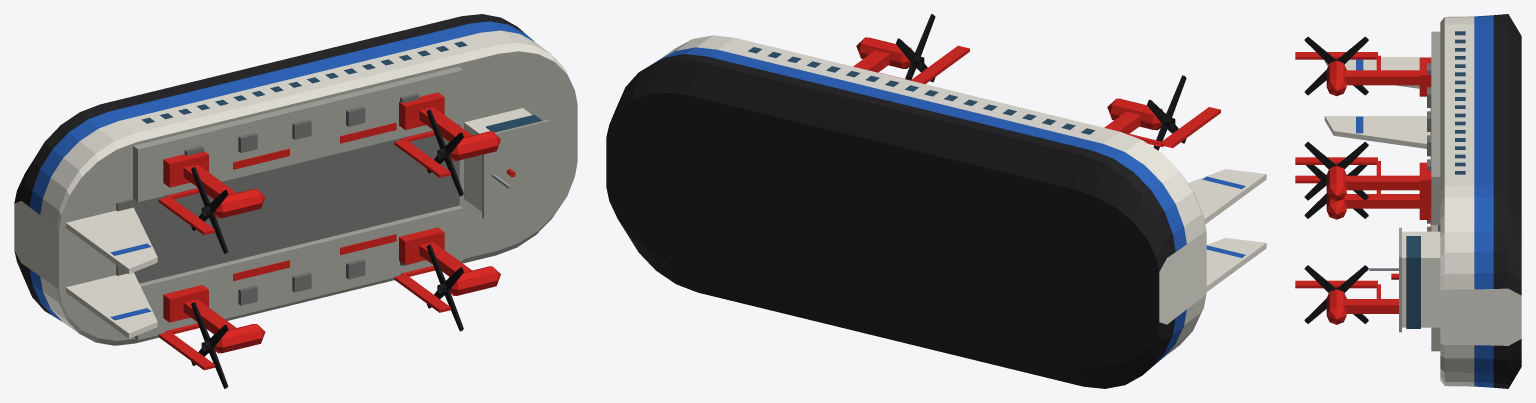
3 views of the same model, side by side, from view 1: azimuth 30°, elevation 25°; view 2: azimuth 150°, elevation 25°; view 3: azimuth 270°, elevation 25° (orthographic). The views are drawn at different scales.
Visible parts, largest first — view 1: default_hull, default_car_deck, default_cabin_roof1, default_cabin_roof-1, default_cockpit_roof, default_fin1, default_fin-1, default_cockpit, default_pylon-5.0-1_foot, default_pylon3.4-1_foot, default_windows1, default_pylon3.41_foot (+13 smaller); view 2: default_hull, default_fin1, default_fin-1, default_windows1, default_pylon3.41_nacelle, default_pylon-5.01_nacelle, default_pylon-5.01_rudder, default_pylon3.41_rudder; view 3: default_hull, default_fin-1, default_cockpit, default_cabin_roof1, default_cockpit_glass, default_pylon-5.01, default_pylon3.41, default_pylon-5.0-1, default_fin1, default_windows1, default_pylon3.4-1, default_pylon-5.01_nacelle (+20 smaller).
Boxes of the visible parts, x1,y1,x2,y2 form: default_hull: [14, 14, 577, 345]; default_car_deck: [116, 124, 459, 283]; default_cabin_roof1: [133, 66, 463, 202]; default_cabin_roof-1: [134, 205, 463, 339]; default_cockpit_roof: [482, 119, 549, 218]; default_fin1: [66, 207, 157, 273]; default_fin-1: [66, 272, 157, 338]; default_cockpit: [464, 108, 531, 211]; default_pylon-5.0-1_foot: [163, 285, 208, 322]; default_pylon3.4-1_foot: [399, 227, 444, 264]; default_windows1: [141, 41, 467, 123]; default_pylon3.41_foot: [399, 92, 444, 129]; default_hull: [606, 35, 1206, 388]; default_fin1: [1188, 169, 1266, 223]; default_fin-1: [1206, 238, 1266, 291]; default_windows1: [748, 47, 1095, 134]; default_pylon3.41_nacelle: [856, 37, 911, 68]; default_pylon-5.01_nacelle: [1107, 98, 1162, 130]; default_pylon-5.01_rudder: [1160, 107, 1220, 148]; default_pylon3.41_rudder: [910, 45, 969, 84]; default_hull: [1440, 14, 1521, 388]; default_fin-1: [1324, 116, 1430, 148]; default_cockpit: [1402, 231, 1440, 327]; default_cabin_roof1: [1431, 31, 1440, 224]; default_cockpit_glass: [1406, 236, 1420, 328]; default_pylon-5.01: [1344, 70, 1419, 85]; default_pylon3.41: [1344, 175, 1419, 190]; default_pylon-5.0-1: [1344, 194, 1419, 208]; default_fin1: [1324, 57, 1431, 88]; default_windows1: [1455, 31, 1465, 174]; default_pylon3.4-1: [1344, 299, 1398, 313]; default_pylon-5.01_nacelle: [1326, 60, 1346, 96].
Size of the model in its own units: 18.5 by 7.4 by 7.65.
